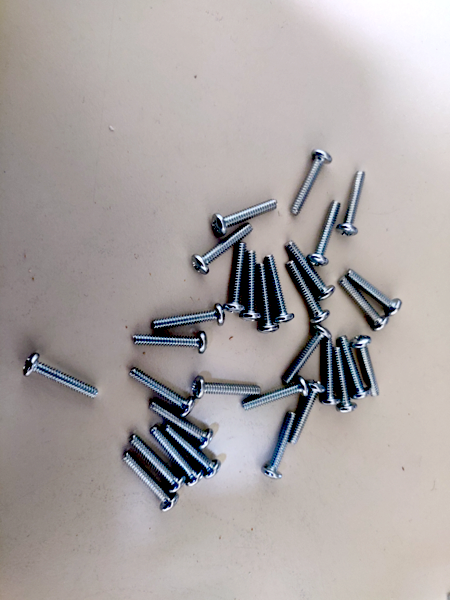longscrew: (23, 356, 103, 404), (126, 367, 198, 415), (190, 225, 256, 277), (153, 400, 215, 453), (160, 424, 222, 477), (149, 428, 207, 484), (129, 435, 187, 491), (122, 455, 180, 511), (284, 243, 336, 305), (261, 409, 301, 484), (291, 144, 332, 217), (282, 325, 328, 390), (286, 261, 330, 328), (209, 195, 277, 235), (352, 270, 403, 320), (343, 282, 394, 332), (309, 202, 347, 269), (336, 170, 371, 238), (145, 300, 227, 328), (128, 330, 211, 357), (292, 384, 327, 445), (266, 254, 295, 326), (243, 378, 306, 411), (224, 241, 250, 319), (234, 248, 260, 326), (253, 261, 279, 338), (340, 338, 370, 400), (334, 352, 364, 414), (354, 338, 381, 401), (189, 381, 263, 403), (322, 336, 337, 414)
